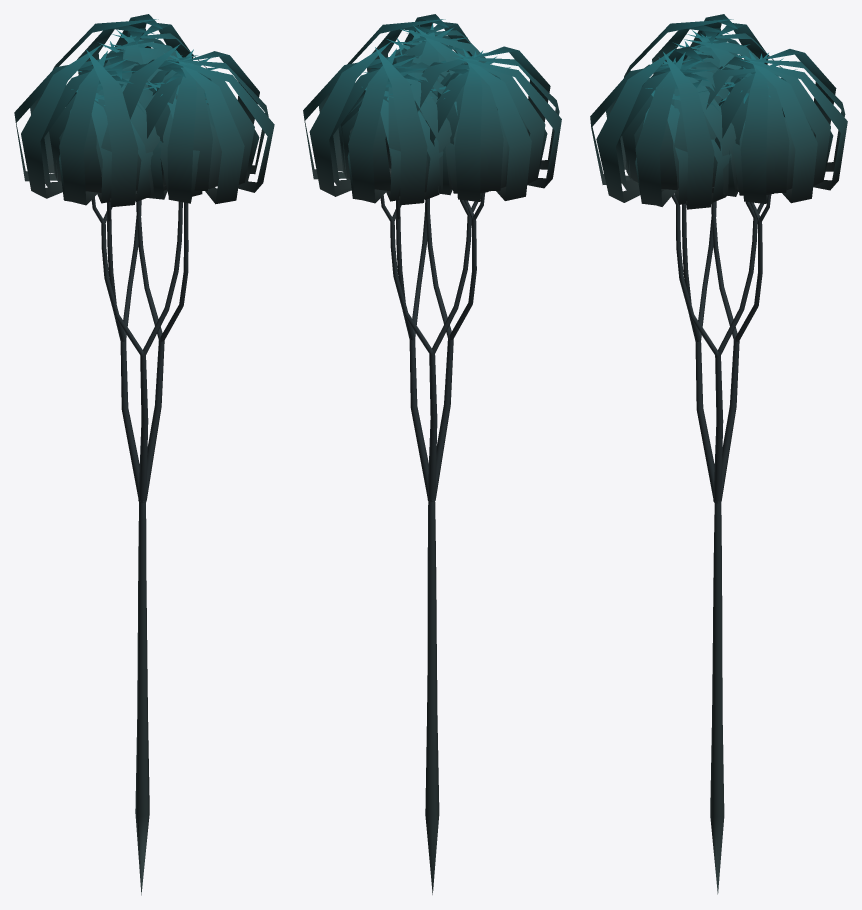
The model's file is plants-flowers-teal-globe-flower_v5.fbx.
The picture shows the model from 3 angles, left to right: view 1: azimuth 30°, elevation 25°; view 2: azimuth 150°, elevation 25°; view 3: azimuth 270°, elevation 25°; orthographic projection.
Parts seen in each view (by area): view 1: Teal Globe Flower_v5; view 2: Teal Globe Flower_v5; view 3: Teal Globe Flower_v5.
Part boxes in pixels (x1,y1,x2,y2): Teal Globe Flower_v5: (14, 14, 274, 895); Teal Globe Flower_v5: (303, 14, 561, 894); Teal Globe Flower_v5: (590, 14, 847, 894).
Size of the model in its own units: 0.1656 by 0.6 by 0.1642.
